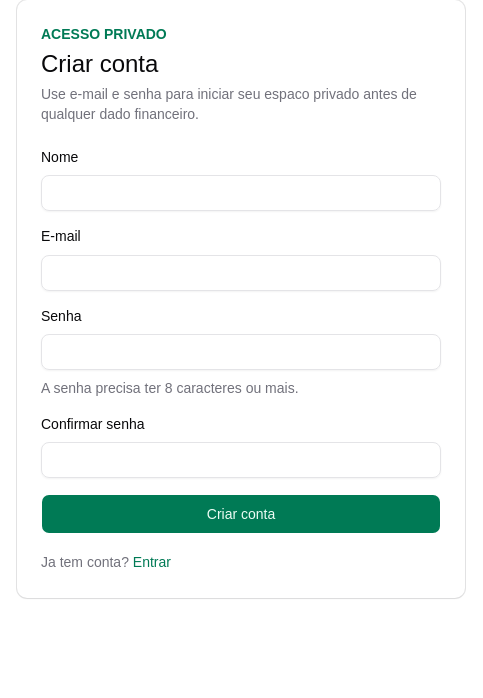
Test: SignUpPage › announces confirmation guidance when signup needs email confirmation
Type "Ana" into the field labelled "Nome" at x=241, y=193, box [41,175,441,211]
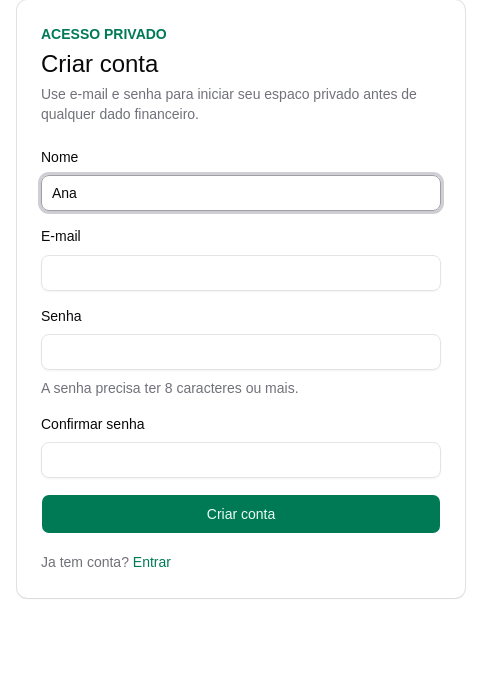
Type "ana@example.com" into the field labelled "E-mail" at x=241, y=272, box [41,254,441,290]
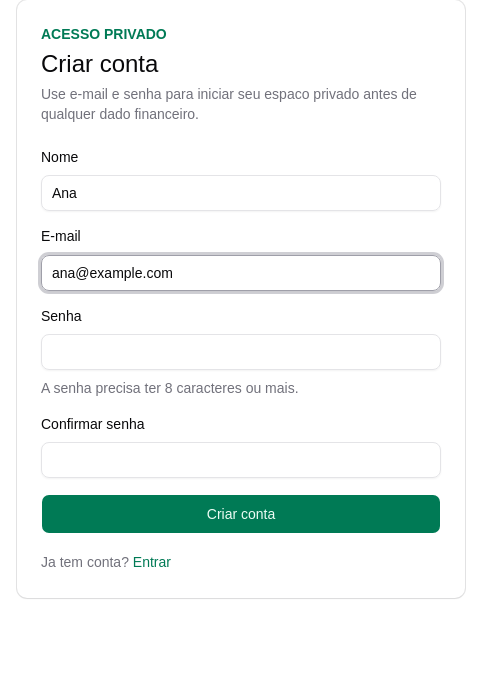
Type "senhaforte" into the password field labelled "Senha" at x=241, y=352, box [41,334,441,370]
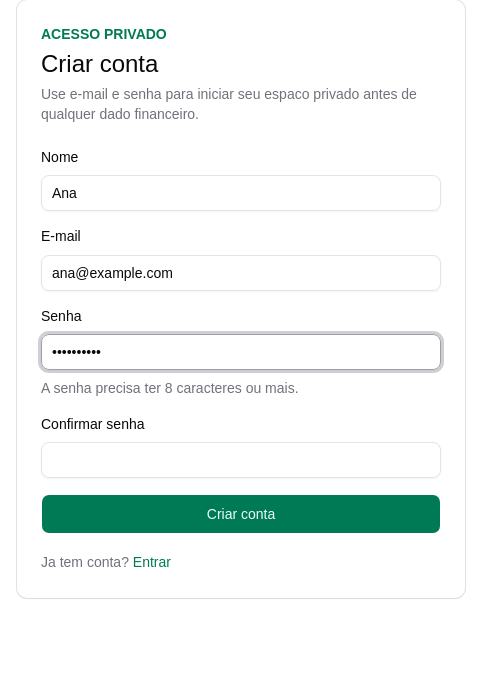
Type "senhaforte" into the password field labelled "Confirmar senha" at x=241, y=460, box [41,442,441,478]
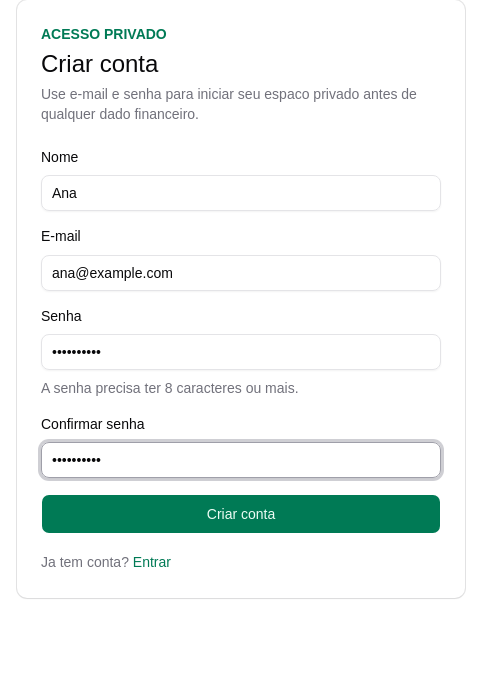
Click the button "Criar conta" at x=241, y=514, box [41,494,441,534]
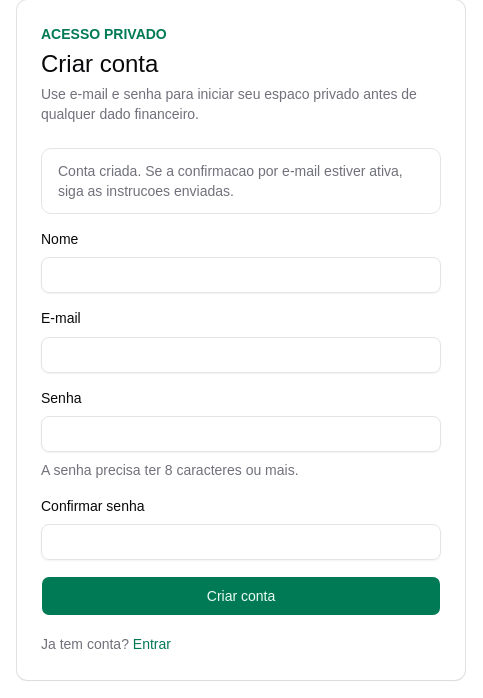
Expected: the text "Conta criada. Se a confirmacao por e-mail estiver ativa, siga as instrucoes enviadas." is shown, [58,163,403,199]
Expected: the field labelled "Nome" is empty, [41,257,441,293]
Expected: the field labelled "E-mail" is empty, [41,336,441,372]
